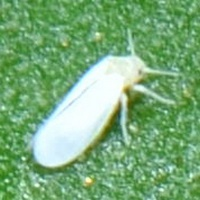insect: (31, 55, 145, 167)
